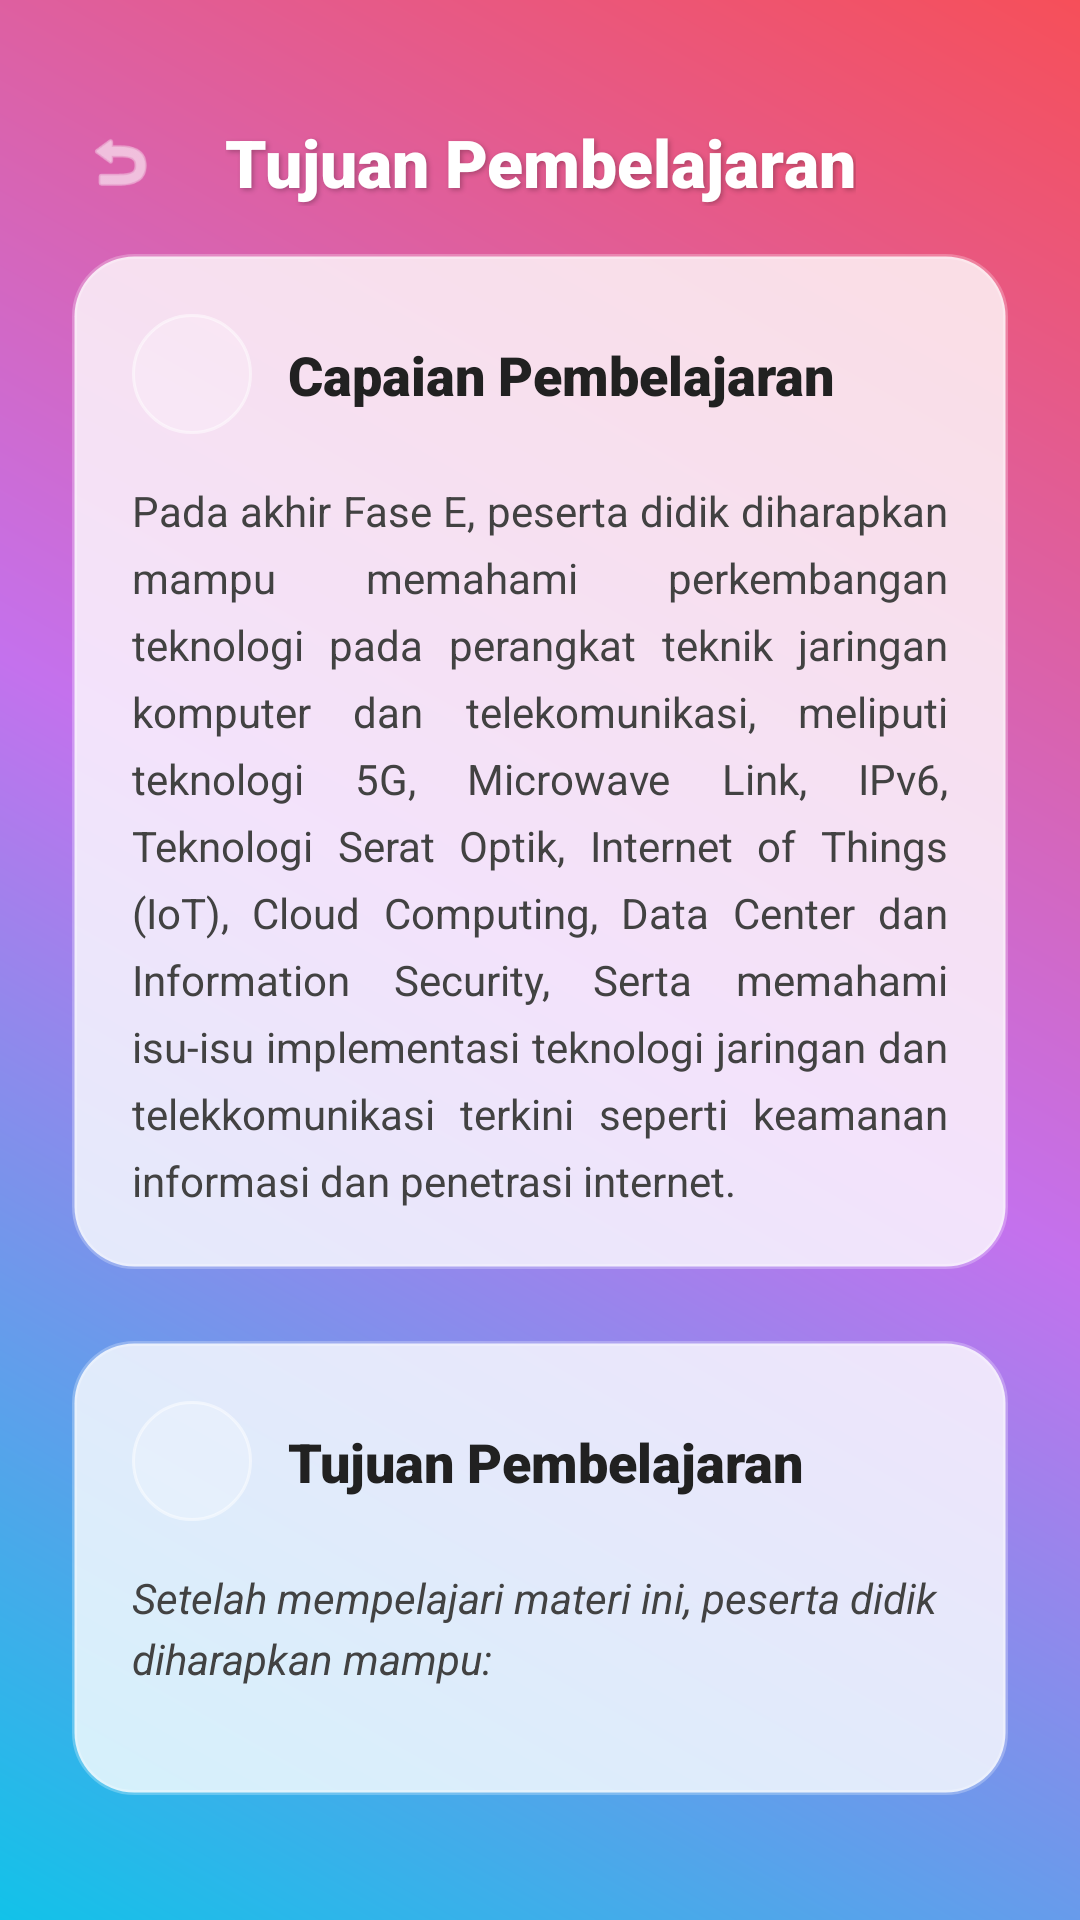

Named icons in this screenshot (1080px×1920px) and their centers, (x,y):
revert: (121,162)
